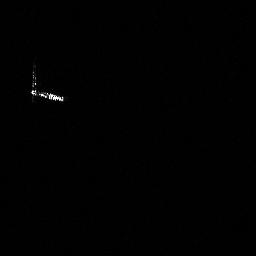ship: (30, 71, 65, 103)
